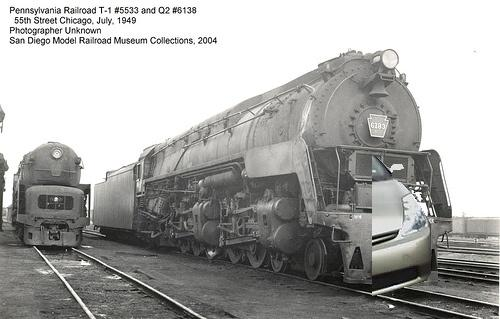tampered: (373, 155, 431, 296)
